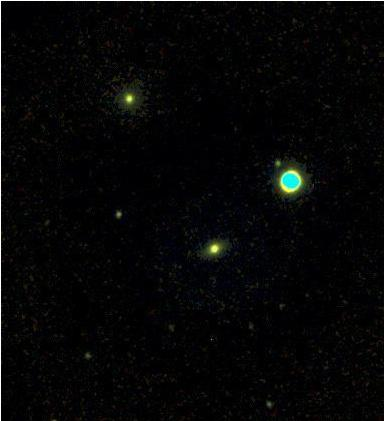star: (37, 405, 67, 421)
